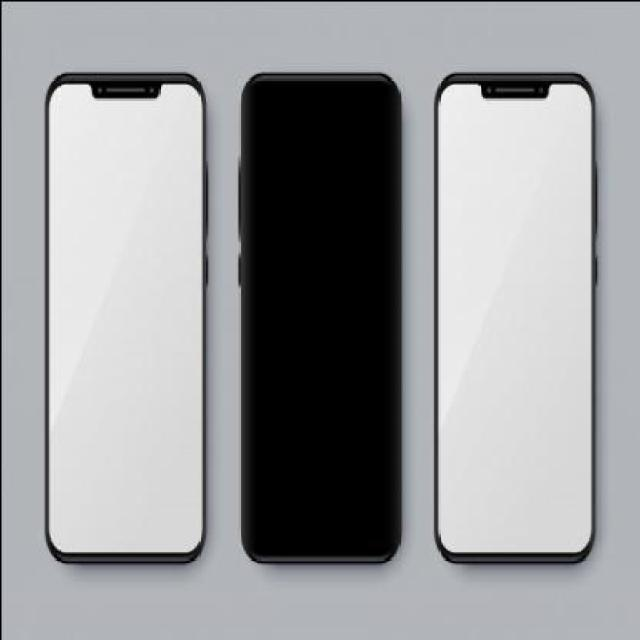cellphone: (236, 68, 402, 566), (432, 68, 596, 564), (43, 68, 206, 566)
